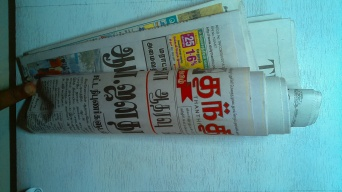p: (21, 4, 330, 147)
